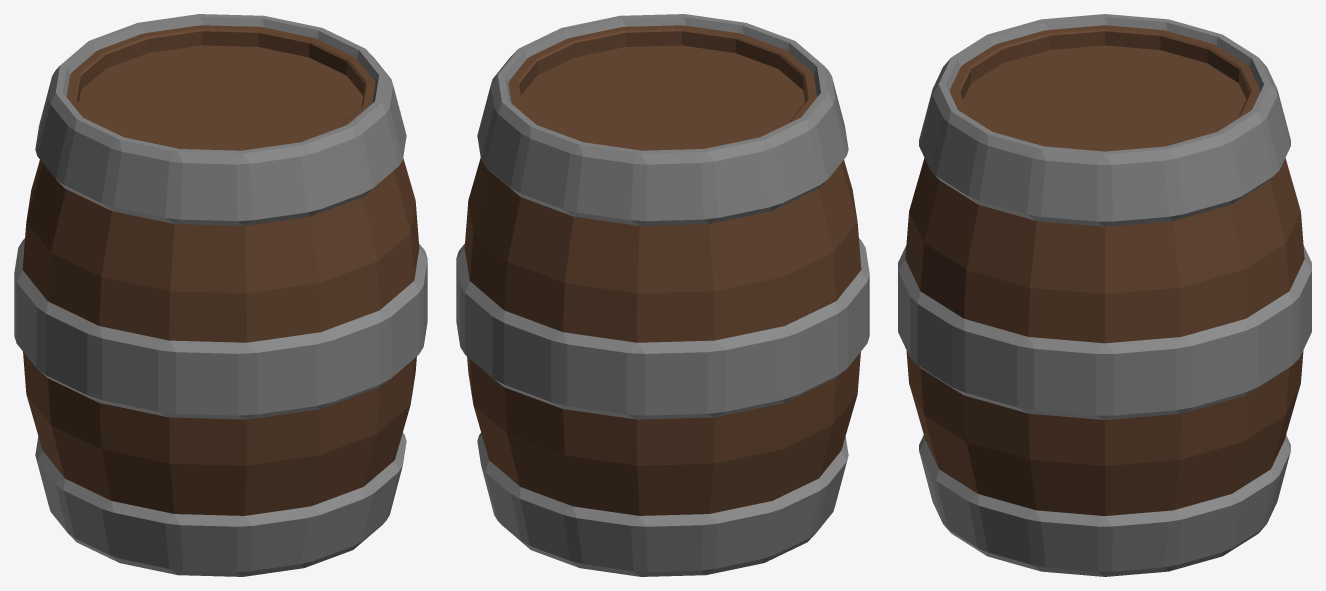
Rendered from Barrel 3.fbx.
The picture shows the model from 3 angles, left to right: view 1: azimuth 30°, elevation 25°; view 2: azimuth 150°, elevation 25°; view 3: azimuth 270°, elevation 25°; orthographic projection.
Visible parts, largest first — view 1: Cylinder; view 2: Cylinder; view 3: Cylinder.
Part boxes in pixels (x1,y1,x2,y2): Cylinder: (14,14,427,576); Cylinder: (456,14,869,576); Cylinder: (898,14,1311,576).
Size of the model in its own units: 324 by 365 by 324.
